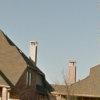Chimney: (24, 37, 50, 79)
